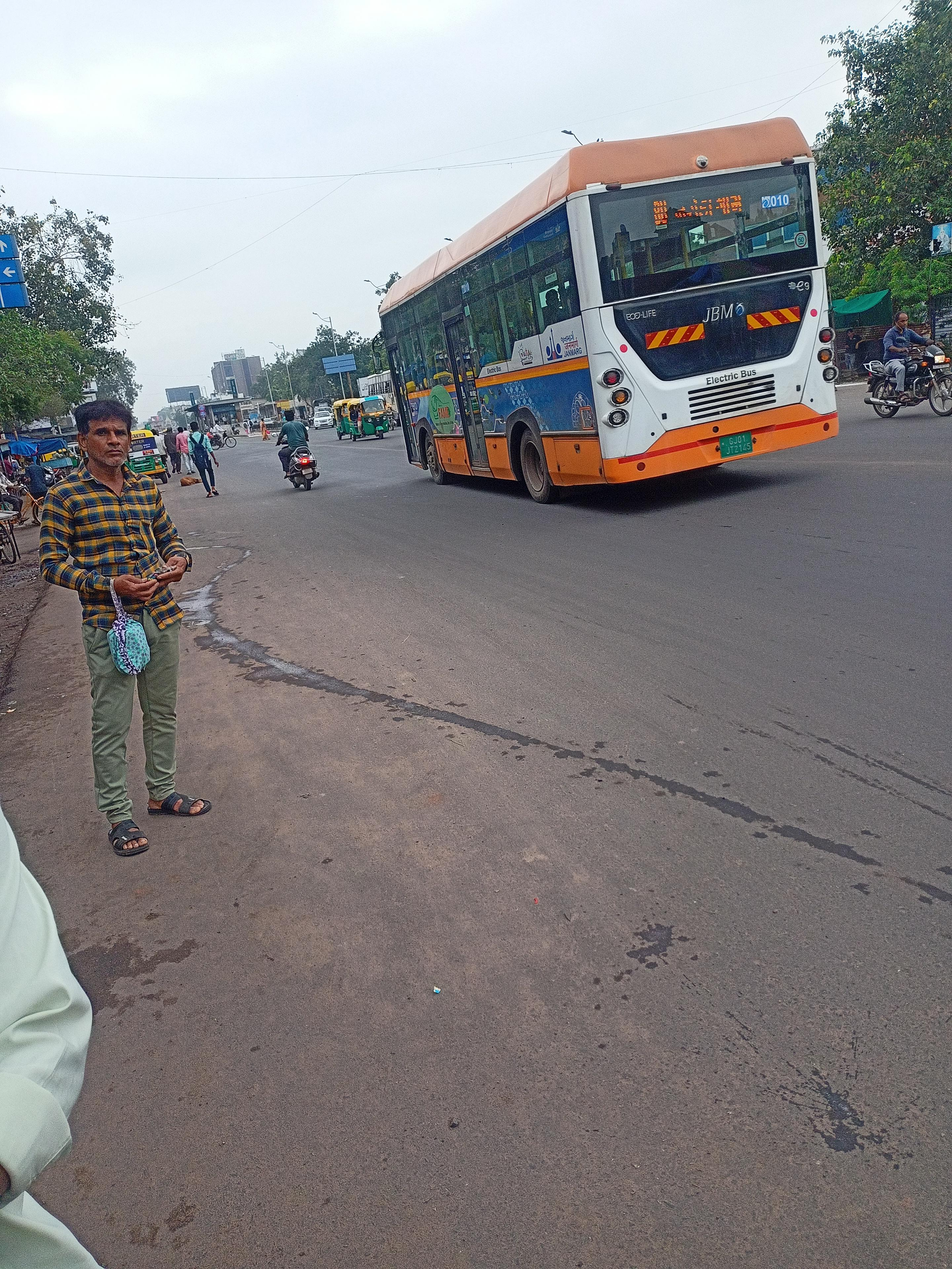green license plate: (714, 424, 762, 453)
